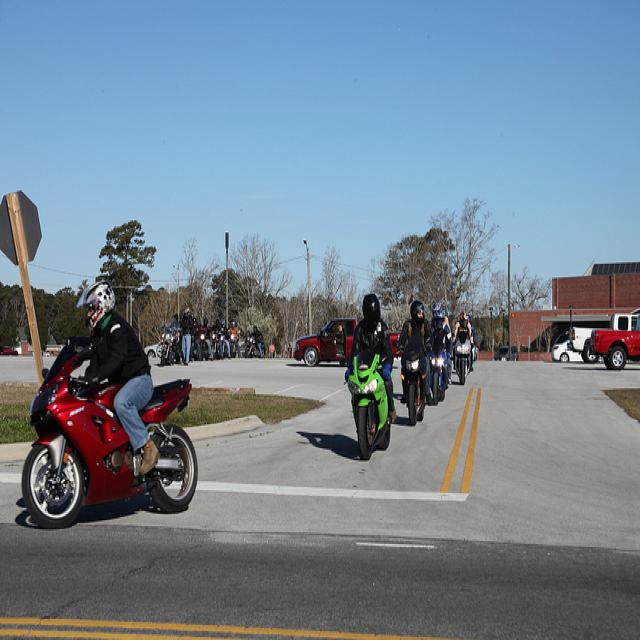motor: (21, 338, 198, 529), (346, 340, 395, 462), (395, 347, 432, 426), (428, 350, 451, 406), (451, 333, 475, 385), (161, 317, 181, 367), (245, 331, 265, 358), (199, 329, 209, 360), (209, 330, 219, 358), (230, 332, 237, 360)
